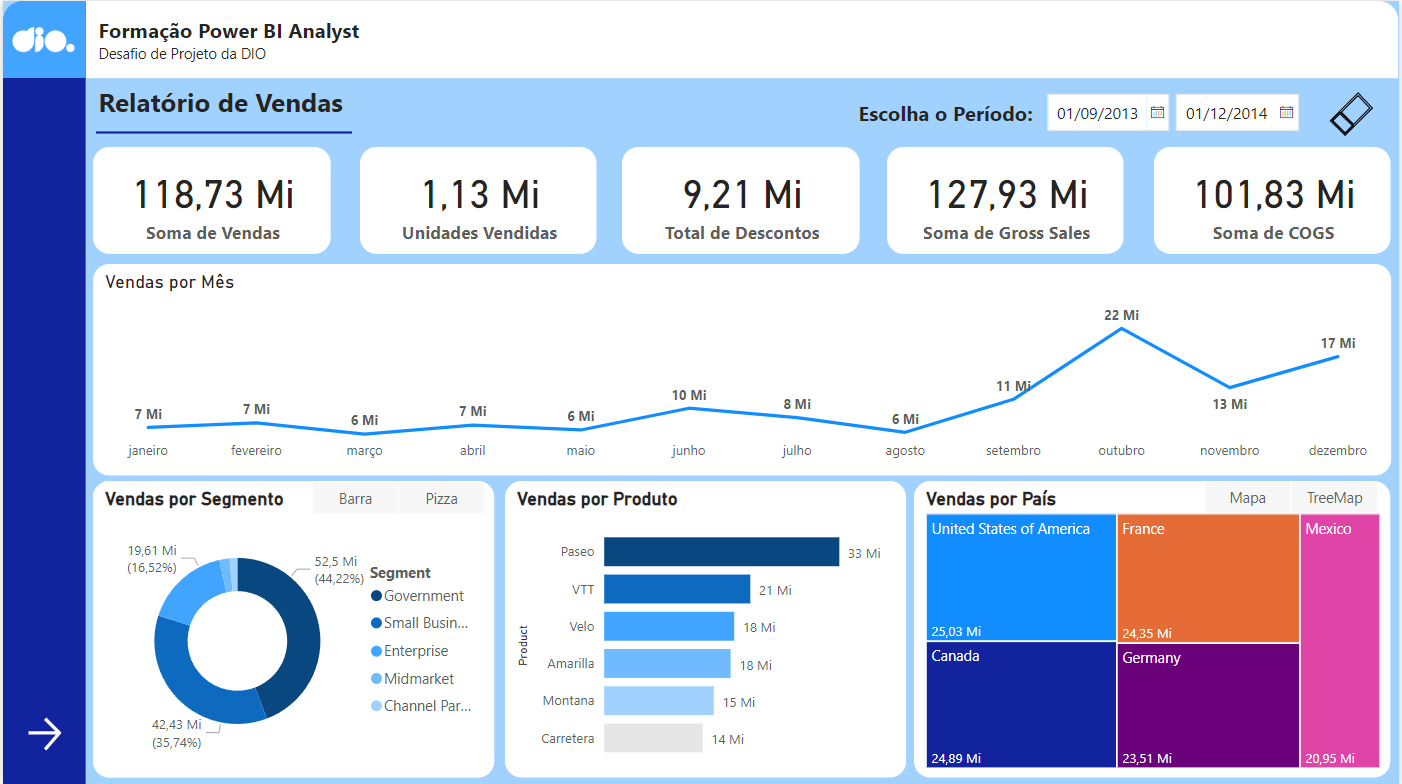

What the dashboard file says about the page in this screenshot:
{"tool":"powerbi","page":{"name":"Relatório vendas","canvas":[1280,720],"ordinal":0},"visuals":[{"type":"shape","box":[0,0,76,719],"z":0},{"type":"slicer","fields":{"Values":["financials.Date"]},"box":[945,75.2,254.1,58.7],"z":0,"group":"g2"},{"type":"card","fields":{"Values":["Sum(financials. Sales)"]},"box":[82.6,133.9,218,98.1],"z":0,"group":"g1"},{"type":"clusteredBarChart","title":"Vendas por Segmento","fields":{"Y":["Sum(financials. Sales)"],"Category":["financials.Segment"]},"box":[82.6,440.4,367.9,272.5],"z":0,"group":"g4"},{"type":"shape","box":[76,0,1204,71],"z":1000},{"type":"textbox","box":[779.4,85.1,171.6,39.4],"z":1000,"group":"g2"},{"type":"card","fields":{"Values":["Sum(financials.Units Sold)"]},"box":[327.6,133.9,217.4,98.2],"z":1000,"group":"g1"},{"type":"donutChart","title":"Vendas por Segmento","fields":{"Category":["financials.Segment"],"Y":["Sum(financials. Sales)"]},"box":[82.6,440.4,367.9,272.5],"z":1000,"group":"g4"},{"type":"treemap","title":"Vendas por País","fields":{"Group":["financials.Country"],"Values":["Sum(financials. Sales)"]},"box":[835.8,440.4,436.7,272.5],"z":1000,"group":"g3"},{"type":"actionButton","box":[1182.9,441.3,78.5,27.5],"z":1500,"group":"g3"},{"type":"actionButton","box":[363.3,442.3,78,27.5],"z":1500,"group":"g4"},{"type":"textbox","box":[83,71,247,46],"z":2000},{"type":"actionButton","box":[1211.9,78.9,53.2,50.5],"z":2000,"group":"g2"},{"type":"card","fields":{"Values":["Sum(financials.Discounts)"]},"box":[567.9,133.9,218.3,98.2],"z":2000,"group":"g1"},{"type":"actionButton","box":[1102.6,441.3,78.5,27.5],"z":2000,"group":"g3"},{"type":"actionButton","box":[284.8,442,78,27.5],"z":2000,"group":"g4"},{"type":"shape","box":[85.3,117.4,234.9,6.4],"z":3000},{"type":"card","fields":{"Values":["Sum(financials.Gross Sales)"]},"box":[811,133.9,217.4,98.2],"z":3000,"group":"g1"},{"type":"textbox","title":"Título do report","box":[82.6,9.2,378,53.2],"z":4000},{"type":"card","fields":{"Values":["Sum(financials.COGS)"]},"box":[1056,133.9,217.4,98.2],"z":4000,"group":"g1"},{"type":"group","id":"g1","title":"Cards","box":[82.6,133.9,1190.8,98.2],"z":5000},{"type":"shape","box":[0,0,76.1,70.6],"z":6000},{"type":"lineChart","title":"Vendas por Mês","fields":{"Y":["Sum(financials. Sales)"],"Category":["financials.Date.Variation.Hierarquia de datas.Mês"]},"box":[82.6,241.3,1190.8,193.6],"z":7000},{"type":"group","id":"g2","title":"Filtros","box":[779.4,75.2,485.8,58.7],"z":8000},{"type":"clusteredBarChart","title":"Vendas por Produto","fields":{"Y":["Sum(financials. Sales)"],"Category":["financials.Product"]},"box":[460.6,440.4,367.9,272.5],"z":9000},{"type":"actionButton","box":[17.4,652.3,41.3,40.4],"z":10000},{"type":"image","box":[3.7,11.9,67,46.8],"z":11000},{"type":"group","id":"g3","title":"Grupo País","box":[835.8,440.4,437.6,272.5],"z":12000},{"type":"group","id":"g4","title":"Grupo Segmento","box":[82.6,440.4,367.9,272.5],"z":13000}]}

Visuals, with their boxes on the page's 1280x720 design canvas (x1, y1, x2, y2). These are canvas units, not pixel positions in the 1402x784 screenshot, which may show the page scaled, cropped or inside an application window:
shape: bbox=[0, 0, 76, 719]
slicer - financials.Date: bbox=[945, 75, 1199, 134]
card - Sum(financials. Sales): bbox=[83, 134, 301, 232]
"Vendas por Segmento" clusteredBarChart: bbox=[83, 440, 450, 713]
shape: bbox=[76, 0, 1280, 71]
textbox: bbox=[779, 85, 951, 124]
card - Sum(financials.Units Sold): bbox=[328, 134, 545, 232]
"Vendas por Segmento" donutChart: bbox=[83, 440, 450, 713]
"Vendas por País" treemap: bbox=[836, 440, 1272, 713]
actionButton: bbox=[1183, 441, 1261, 469]
actionButton: bbox=[363, 442, 441, 470]
textbox: bbox=[83, 71, 330, 117]
actionButton: bbox=[1212, 79, 1265, 129]
card - Sum(financials.Discounts): bbox=[568, 134, 786, 232]
actionButton: bbox=[1103, 441, 1181, 469]
actionButton: bbox=[285, 442, 363, 470]
shape: bbox=[85, 117, 320, 124]
card - Sum(financials.Gross Sales): bbox=[811, 134, 1028, 232]
"Título do report" textbox: bbox=[83, 9, 461, 62]
card - Sum(financials.COGS): bbox=[1056, 134, 1273, 232]
"Cards" group: bbox=[83, 134, 1273, 232]
shape: bbox=[0, 0, 76, 71]
"Vendas por Mês" lineChart: bbox=[83, 241, 1273, 435]
"Filtros" group: bbox=[779, 75, 1265, 134]
"Vendas por Produto" clusteredBarChart: bbox=[461, 440, 828, 713]
actionButton: bbox=[17, 652, 59, 693]
image: bbox=[4, 12, 71, 59]
"Grupo País" group: bbox=[836, 440, 1273, 713]
"Grupo Segmento" group: bbox=[83, 440, 450, 713]
